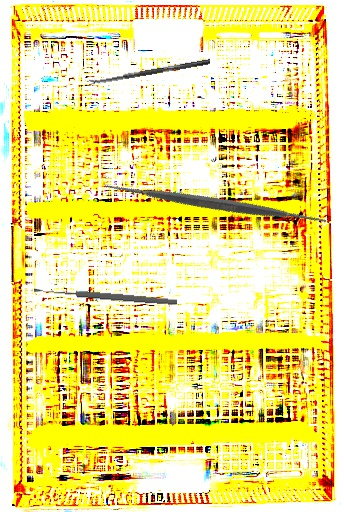Spatula Surgical: (99, 87, 332, 319)
Surgical Spoon: (86, 58, 211, 86), (33, 285, 178, 307)
